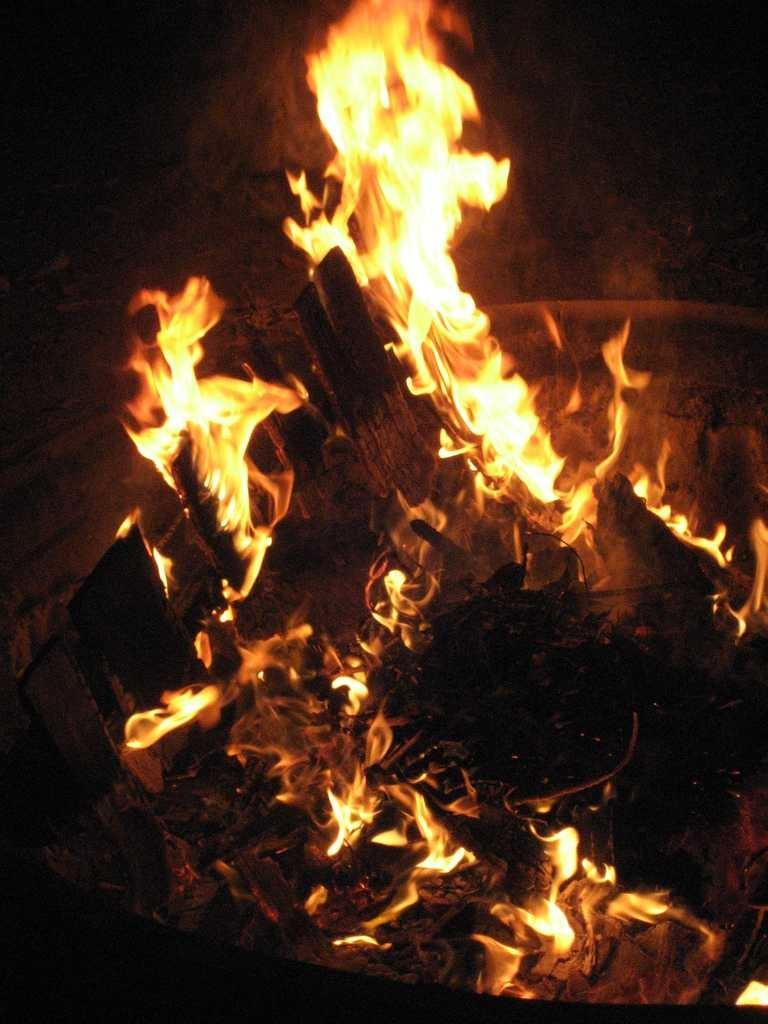fire: (291, 21, 627, 520), (111, 294, 273, 528)
